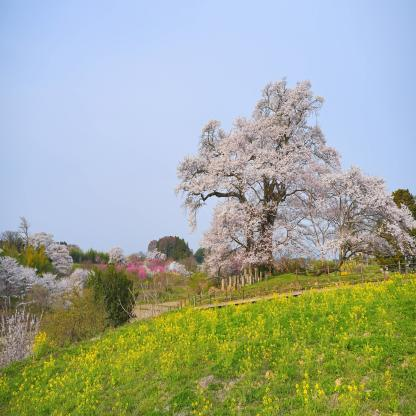EdohiganSakura: (173, 74, 416, 269)
